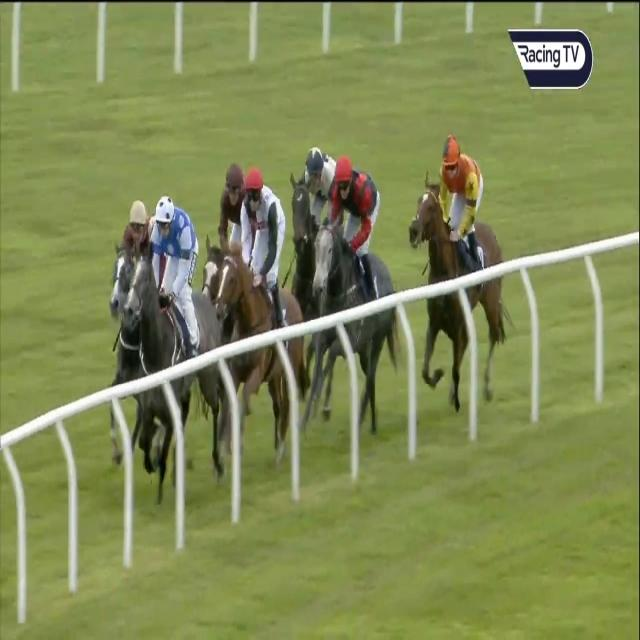horses-racing: (120, 194, 217, 533), (214, 168, 305, 508), (409, 136, 515, 420), (306, 158, 395, 472), (283, 138, 344, 311), (99, 186, 169, 326), (202, 162, 256, 296)
